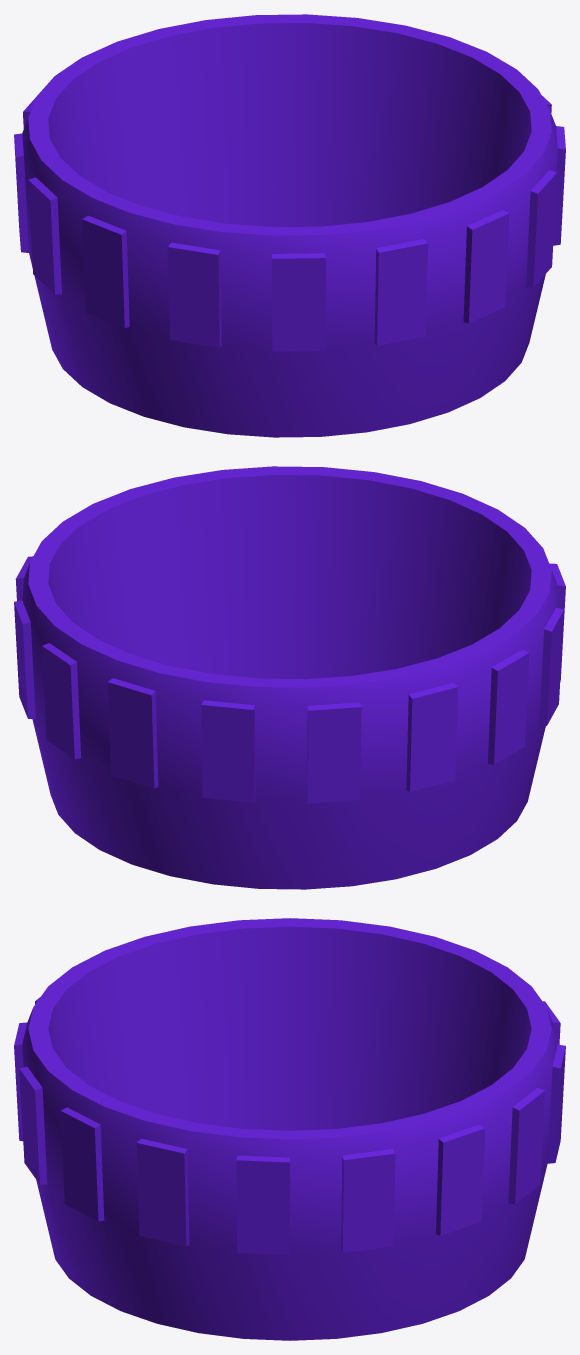
Rendered from Fish tank.glb.
3 views of the same model, one above another, from view 1: azimuth 30°, elevation 25°; view 2: azimuth 150°, elevation 25°; view 3: azimuth 270°, elevation 25° (orthographic).
Parts seen in each view (by area): view 1: Cylinder; view 2: Cylinder; view 3: Cylinder.
Boxes of the visible parts, x1=… form: Cylinder: x1=14, y1=14, x2=565, y2=437; Cylinder: x1=14, y1=466, x2=565, y2=889; Cylinder: x1=14, y1=918, x2=565, y2=1340.
Size of the model in its own units: 26.49 by 11.17 by 26.49.
